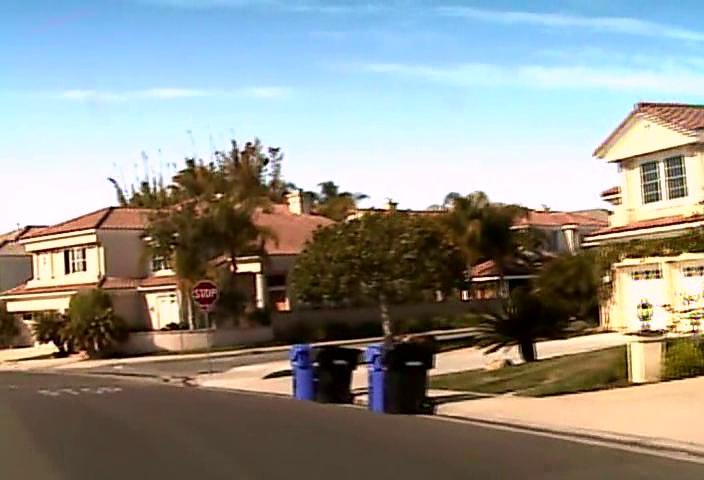stop: (190, 280, 219, 308)
